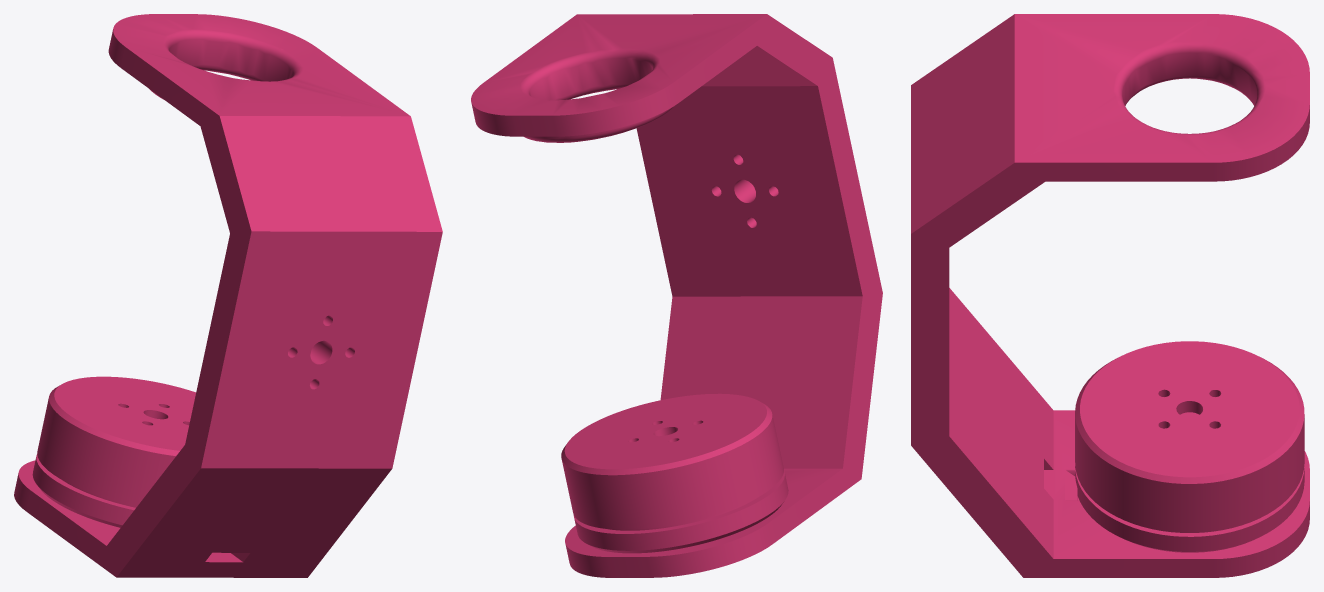
File: gimbal_link.glb
3 views of the same model, side by side, from view 1: azimuth 30°, elevation 25°; view 2: azimuth 150°, elevation 25°; view 3: azimuth 270°, elevation 25° (orthographic). The views are drawn at different scales.
Parts seen in each view (by area): view 1: gimbal_link; view 2: gimbal_link; view 3: gimbal_link.
Part boxes in pixels (x1,y1,x2,y2): gimbal_link: [14, 14, 442, 577]; gimbal_link: [471, 14, 882, 577]; gimbal_link: [911, 14, 1309, 577].
Bounding box in the file's own units: 0.0739 × 0.1185 × 0.083.
